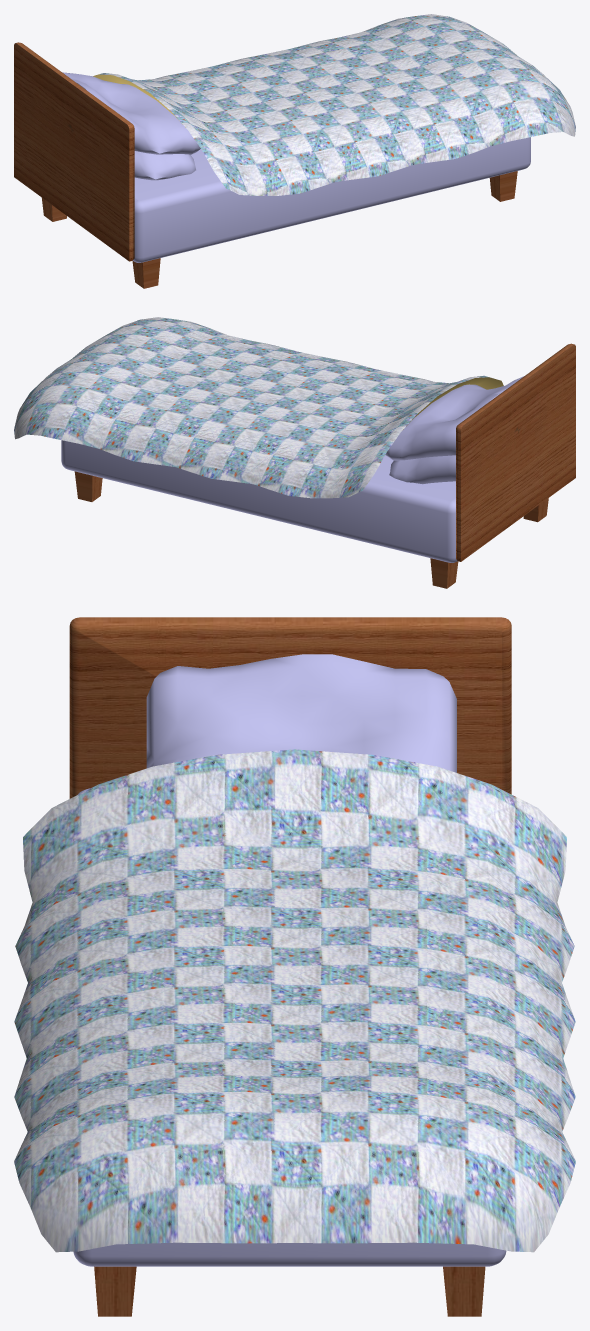
Rendered from bed.dae.
3 views of the same model, one above another, from view 1: azimuth 30°, elevation 25°; view 2: azimuth 150°, elevation 25°; view 3: azimuth 270°, elevation 25° (orthographic). The views are drawn at different scales.
Parts seen in each view (by area): view 1: bed.dxf (×8); view 2: bed.dxf (×8); view 3: bed.dxf (×6).
Boxes of the visible parts, x1,y1,x2,y2 form: bed.dxf (×8): (14, 14, 575, 288); bed.dxf (×8): (14, 317, 575, 588); bed.dxf (×6): (14, 617, 575, 1316).
Size of the model in its own units: 86.15 by 47.26 by 30.83.
